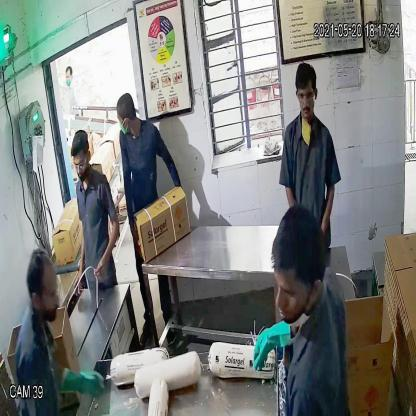goggles: (294, 85, 318, 107), (72, 155, 89, 173)
no_goggles: (273, 277, 309, 304), (26, 283, 61, 306)
